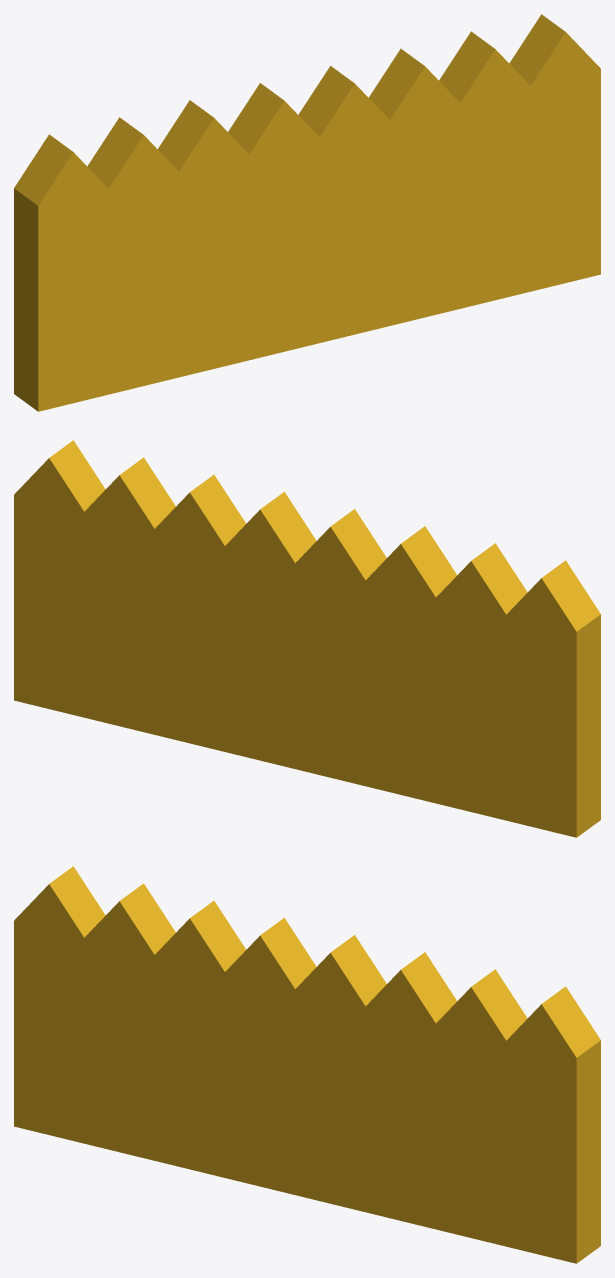
File: Valla.fbx
The picture shows the model from 3 angles, top to bottom: view 1: azimuth 30°, elevation 25°; view 2: azimuth 150°, elevation 25°; view 3: azimuth 330°, elevation 25°; orthographic projection.
Visible parts, largest first — view 1: Cube.002; view 2: Cube.002; view 3: Cube.002.
Boxes of the visible parts, left/top/right/bottom form: Cube.002: left=14, top=14, right=600, bottom=411; Cube.002: left=14, top=440, right=600, bottom=837; Cube.002: left=14, top=866, right=600, bottom=1263.
Bounding box in the file's own units: 615 × 262 × 46.09.
